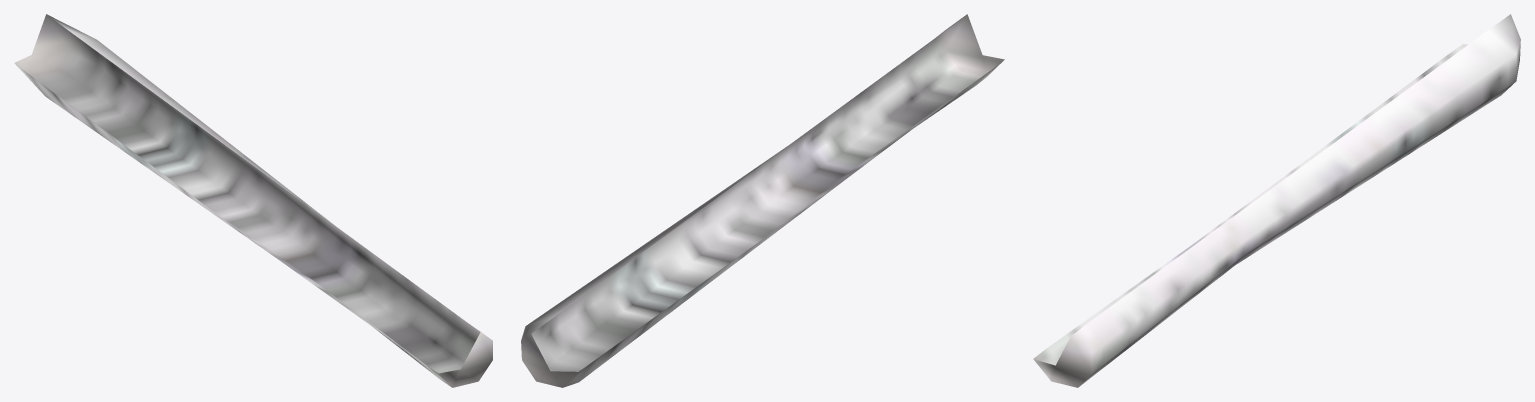
3 renders of one model, left to right at view 1: azimuth 30°, elevation 25°; view 2: azimuth 150°, elevation 25°; view 3: azimuth 330°, elevation 25°, orthographic.
Parts seen in each view (by area): view 1: wg_r_c_st; view 2: wg_r_c_st; view 3: wg_r_c_st.
Part boxes in pixels (box(x1,y1,x2,y2)): wg_r_c_st: box(14, 14, 492, 387); wg_r_c_st: box(521, 14, 1004, 387); wg_r_c_st: box(1033, 14, 1520, 387).
Bounding box in the file's own units: 0.2121 × 0.1771 × 2.34.
1 material, 1 textured.
